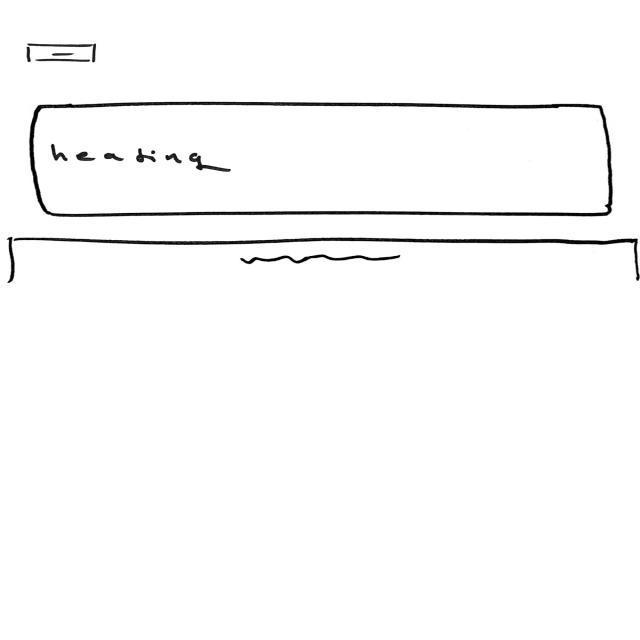container: (30, 103, 615, 218)
icon-button: (24, 44, 99, 65)
label: (51, 143, 233, 173)
text: (239, 256, 403, 267)
